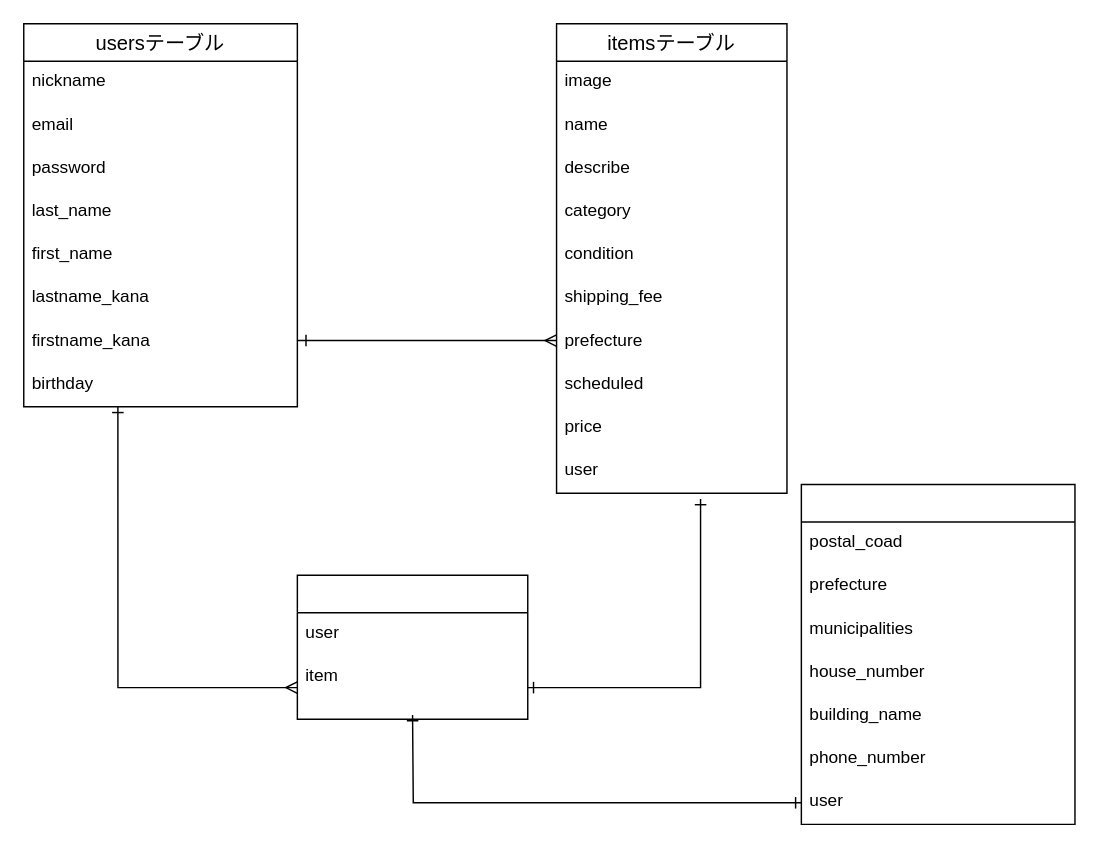
Some shapes in this 1099 by 848 pixel diagram are drawn without their labels. Each missing label, with the box of its shape:
purchasesテーブル: (296, 574, 528, 719)
shipping_addressテーブル: (800, 483, 1075, 824)
